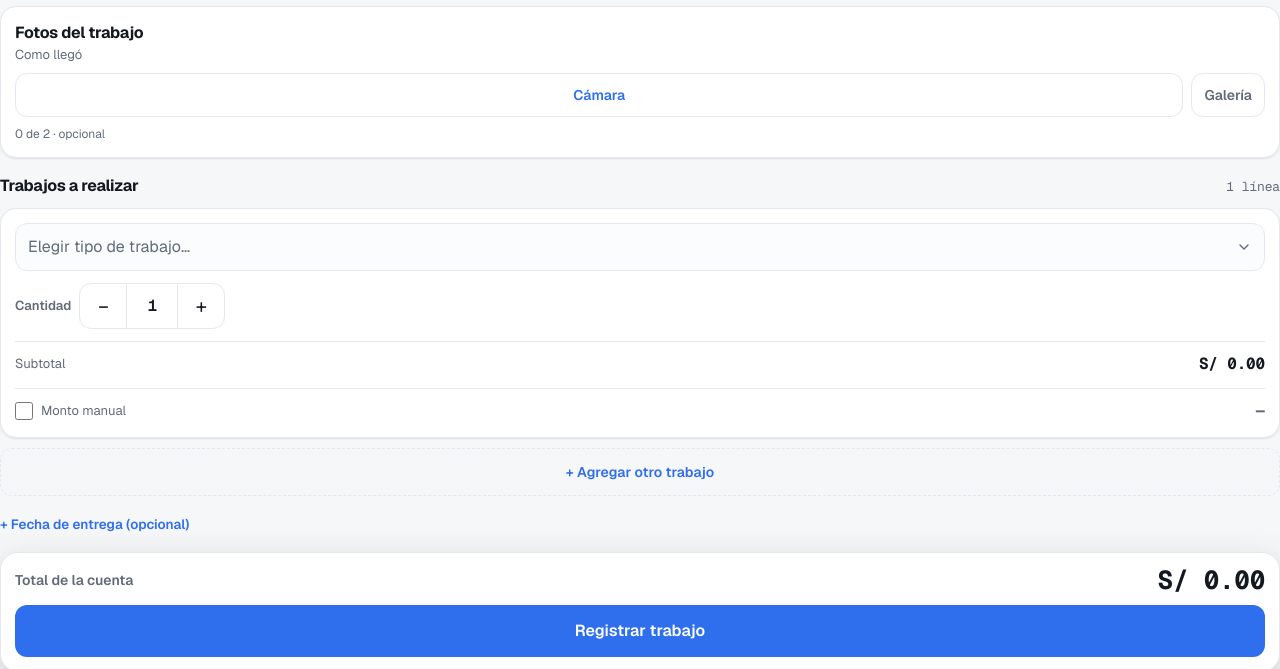
it: TrabajoForm — el monto manual, con el subtotal › con varias líneas sale de la caja y avisa a qué reemplaza
This screenshot has width=1280, height=669.
(page scrolled)
Step 1. Click the button "+ Agregar otro trabajo" → (640, 472), box [0, 448, 1279, 496]
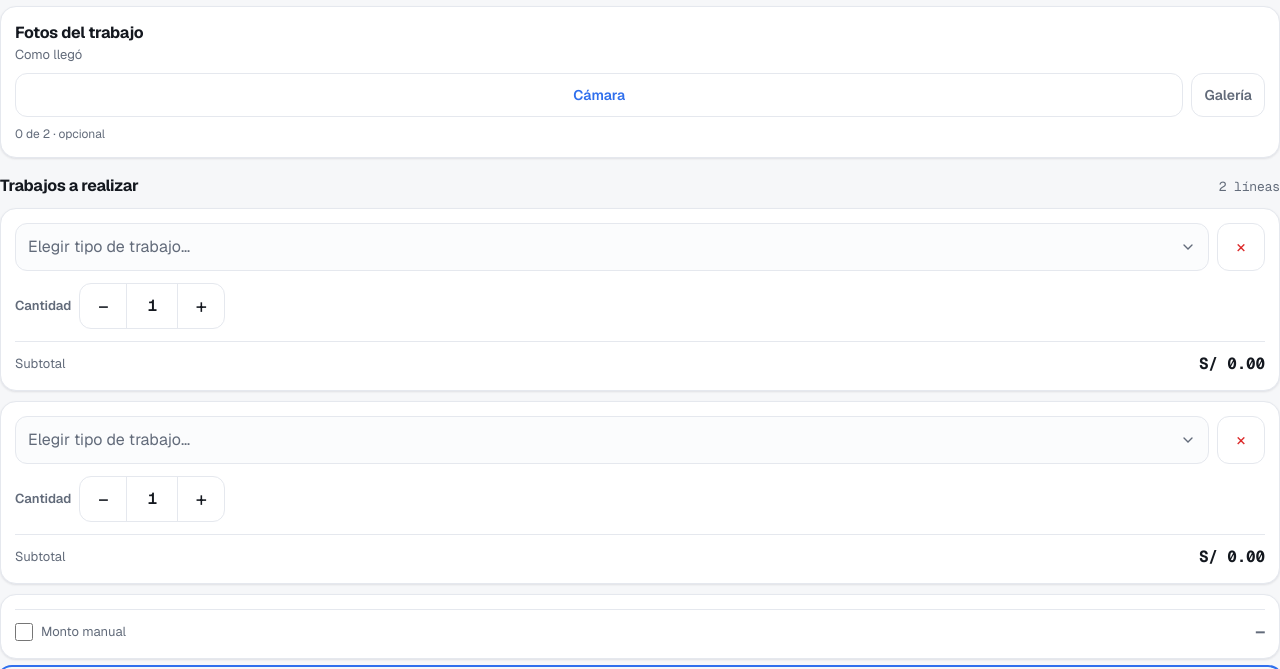
Step 2. Click the checkbox labelled "Monto manual" → (24, 632), box [15, 622, 33, 640]
(page scrolled)
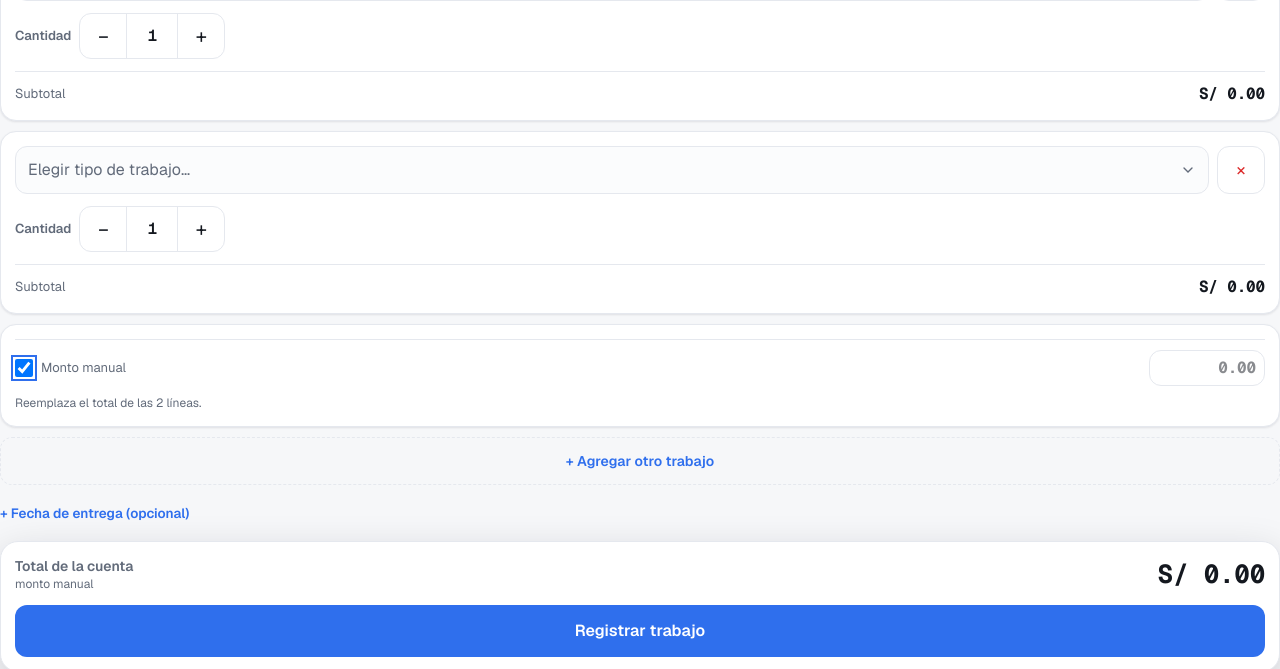
expect the text "Reemplaza el total de las 2 líneas." is shown: met, box [15, 394, 201, 410]
